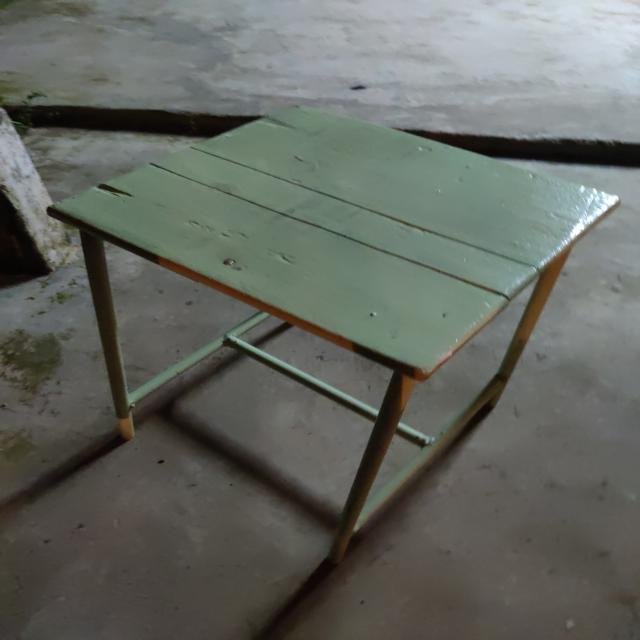table: (38, 94, 621, 568)
